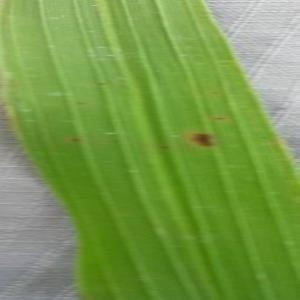Brown_Spot: (186, 129, 218, 151), (67, 134, 85, 145), (93, 78, 111, 89), (207, 86, 221, 99), (212, 114, 229, 124), (155, 142, 170, 152), (73, 98, 86, 108)
